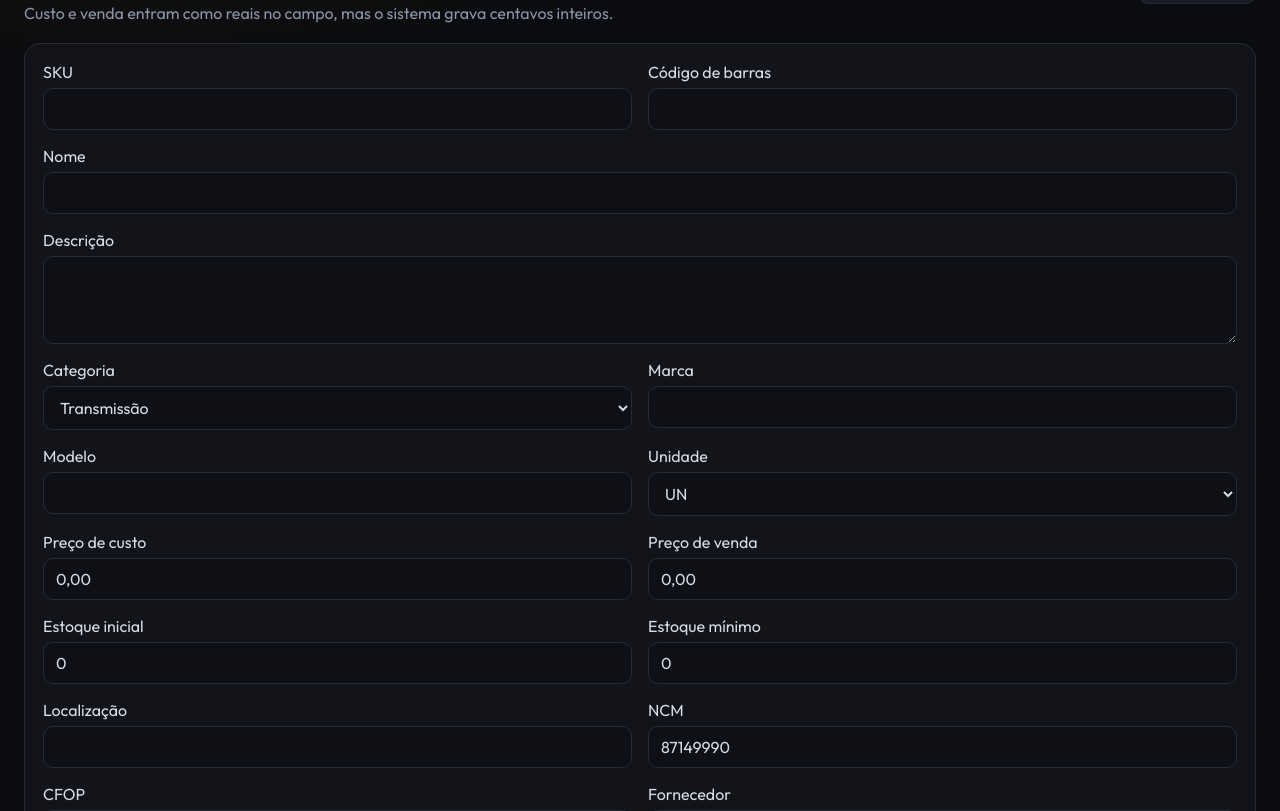
Scenario: Ficha da peça › depois de cadastrar permanece na ficha para corrigir
Type "Peça nova" into the field labelled "Nome" at (640, 193), box [43, 172, 1237, 214]
(page scrolled)
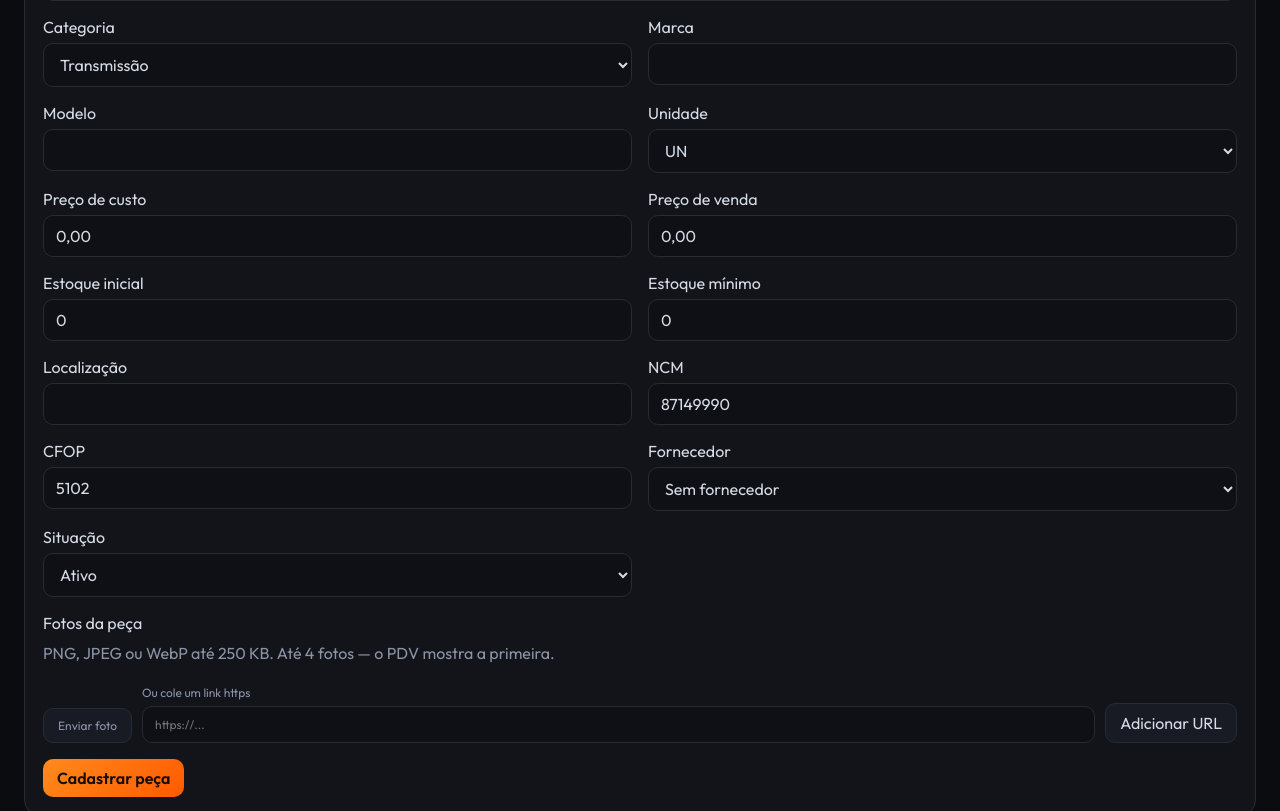
Click the button "Cadastrar peça" at (114, 778), box [43, 759, 184, 797]
(page scrolled)
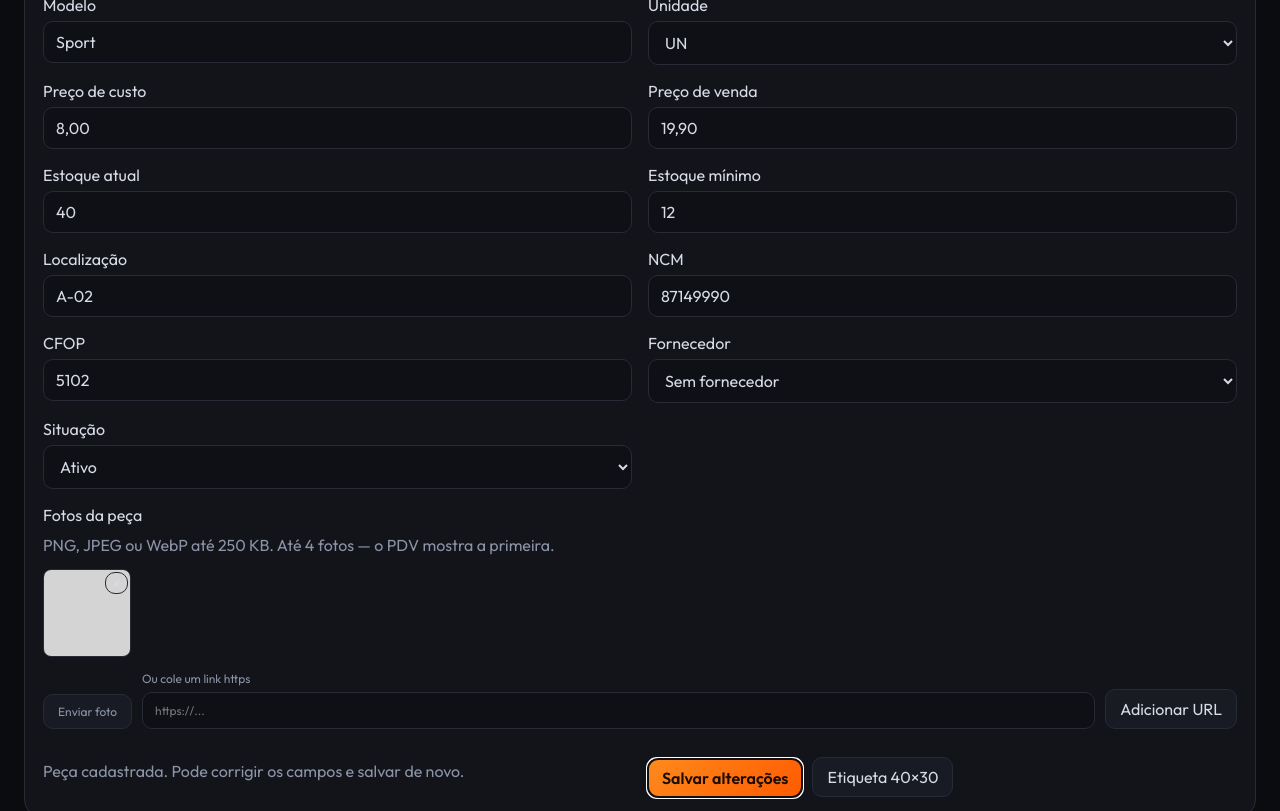
Result: the button "Salvar alterações" is shown at [648, 759, 802, 797]
Result: the message shows "Pode corrigir" at [43, 761, 464, 781]
